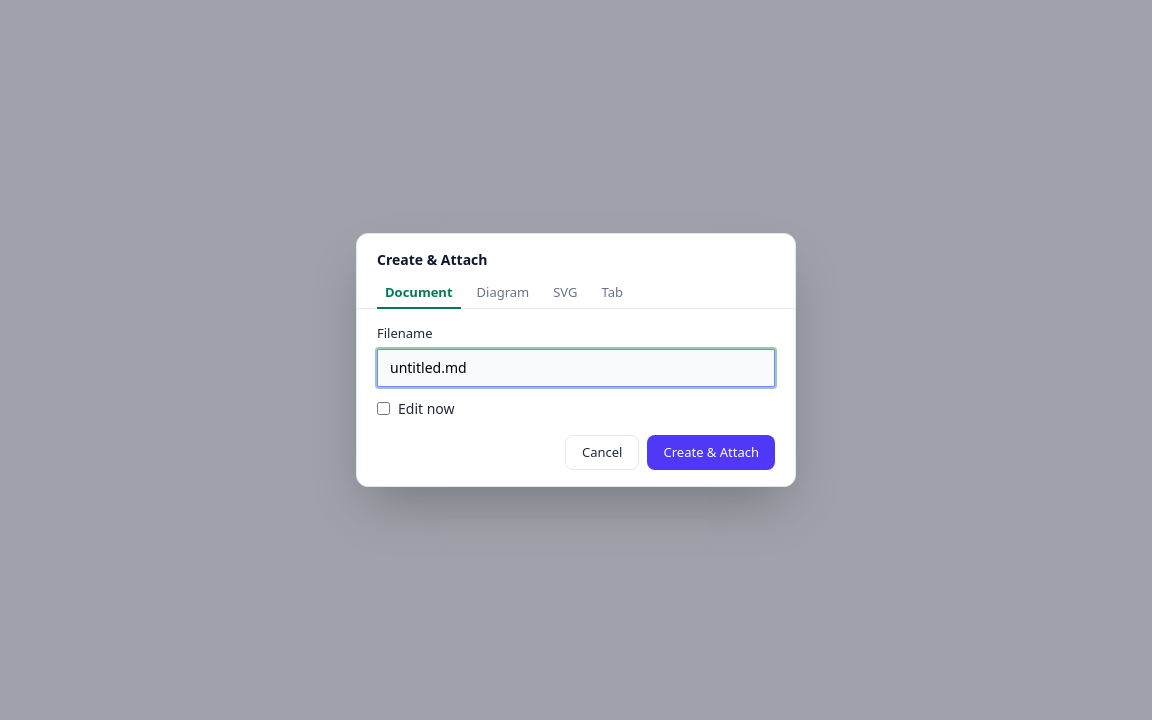
Test case: CreateAttachEntityModal › disables confirm when Tab tab is active (deferred persistence)
Click the tab with test id "create-attach-type-tab" at [612, 294], box [594,278,631,309]
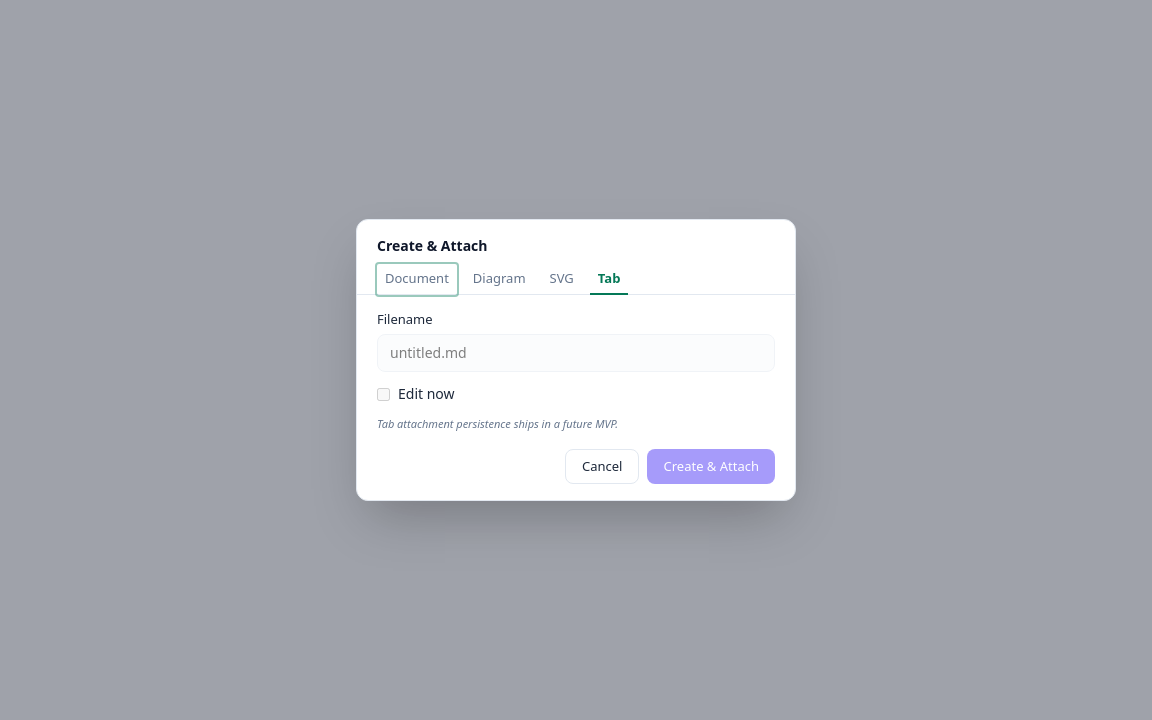
Check: the button with test id "create-attach-confirm" is disabled, box [648,449,775,484]
